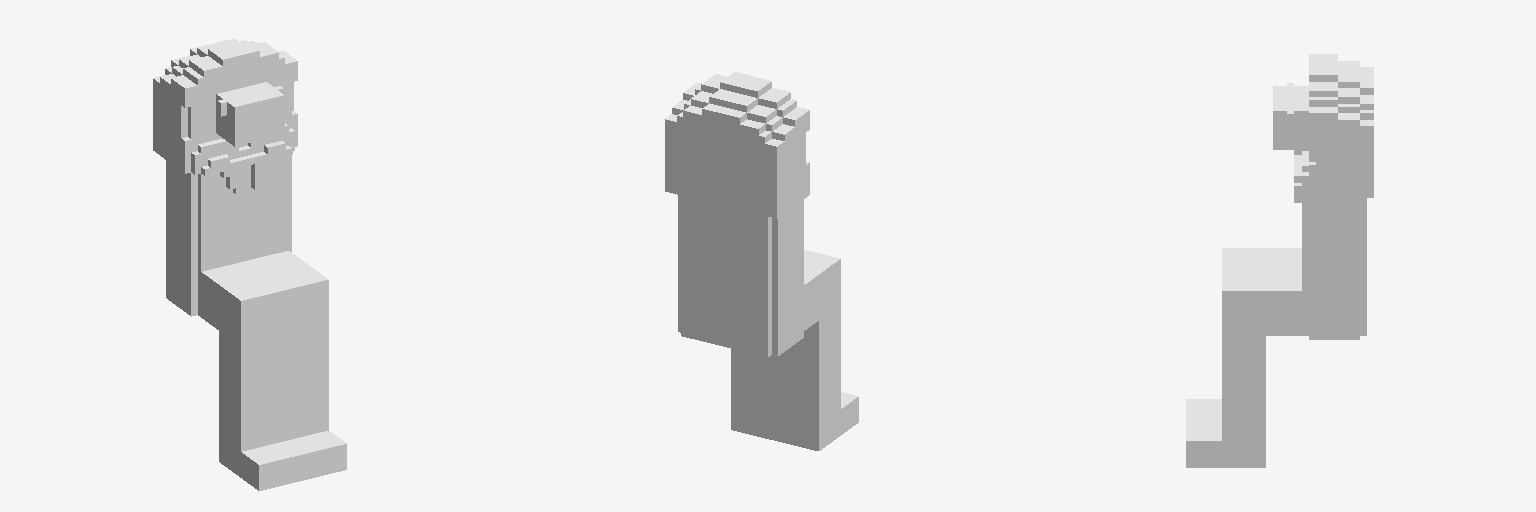
File: SheepChique-2.obj
3 renders of one model, left to right at view 1: azimuth 30°, elevation 25°; view 2: azimuth 150°, elevation 25°; view 3: azimuth 270°, elevation 25°, orthographic.
Parts seen in each view (by area): view 1: object 1; view 2: object 1; view 3: object 1.
Part boxes in pixels (x1,y1,x2,y2): object 1: (153,39,346,490); object 1: (665,72,858,450); object 1: (1186,54,1373,467).
Size of the model in its own units: 1.8 by 5.8 by 2.6.